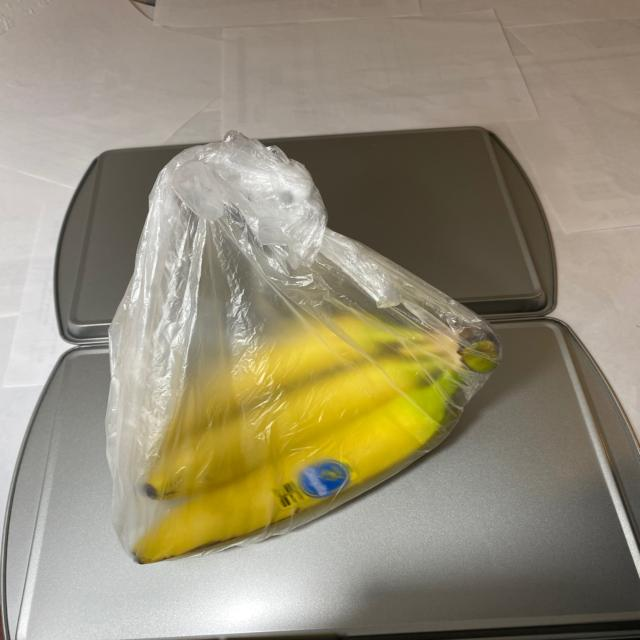banana: (97, 262, 529, 577)
